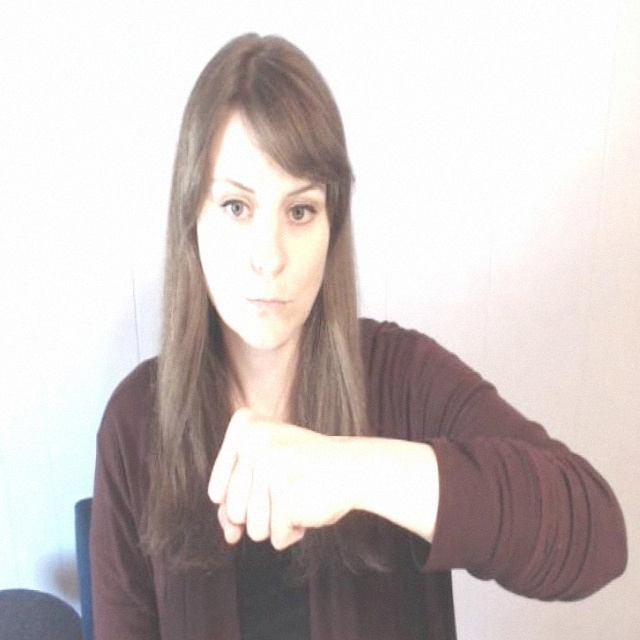Rock: (198, 415, 356, 551)
